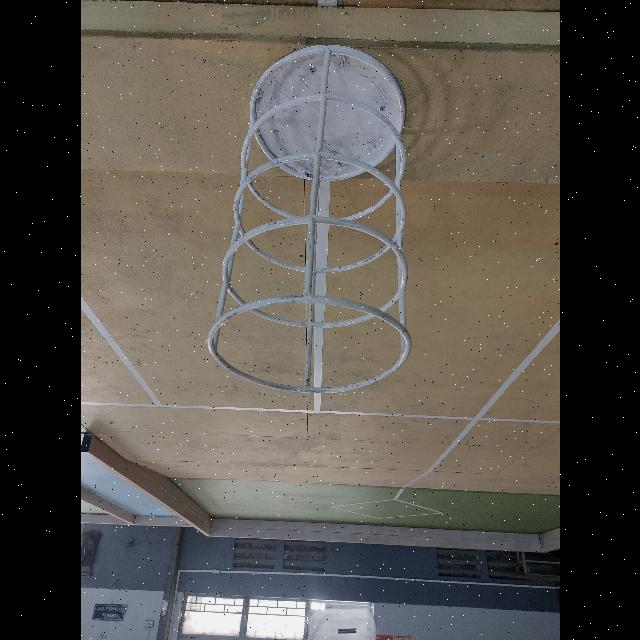S: (204, 44, 413, 398)
